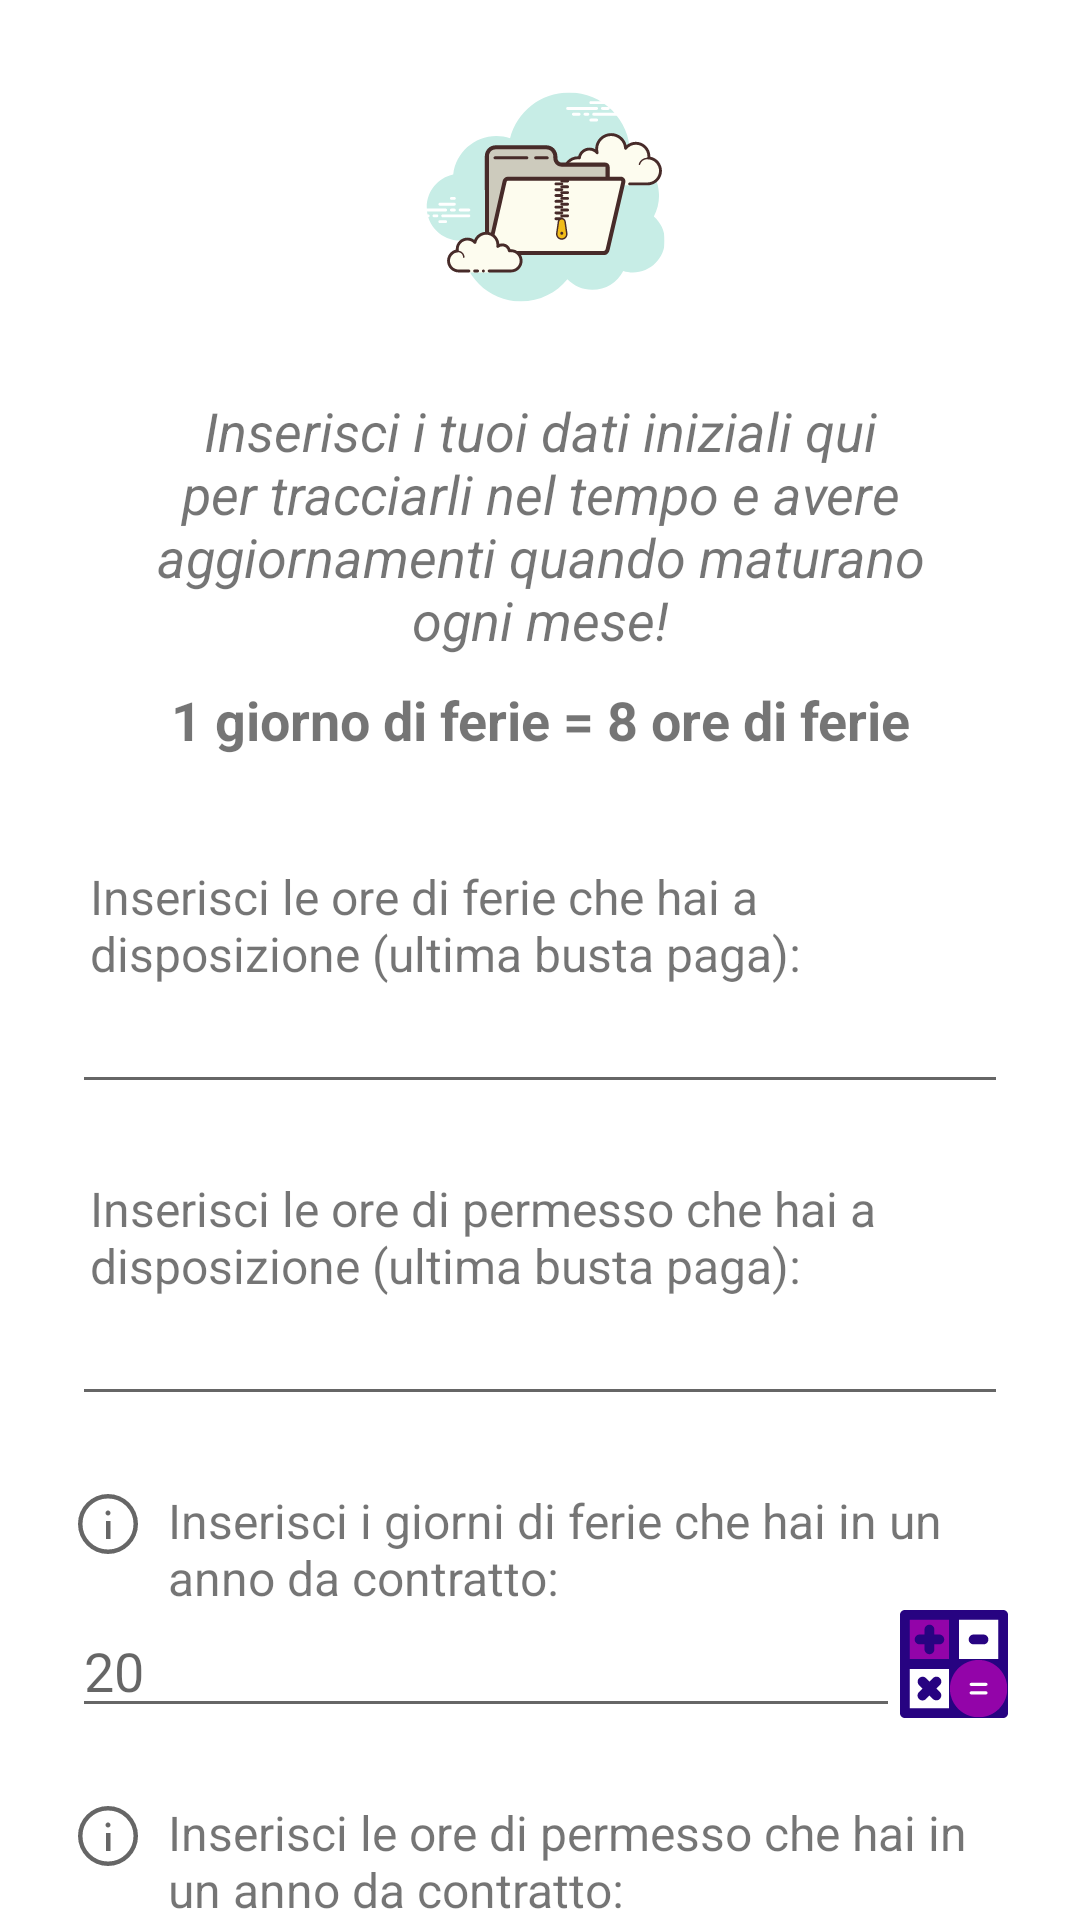

Icon bounding boxes for this 1080 × 1920 phone screenshot, format detection(x1, y1, x2, y2):
calculator: detection(900, 1610, 1008, 1718)
Icona di informazioni: detection(78, 1494, 138, 1554), detection(78, 1806, 138, 1866)
